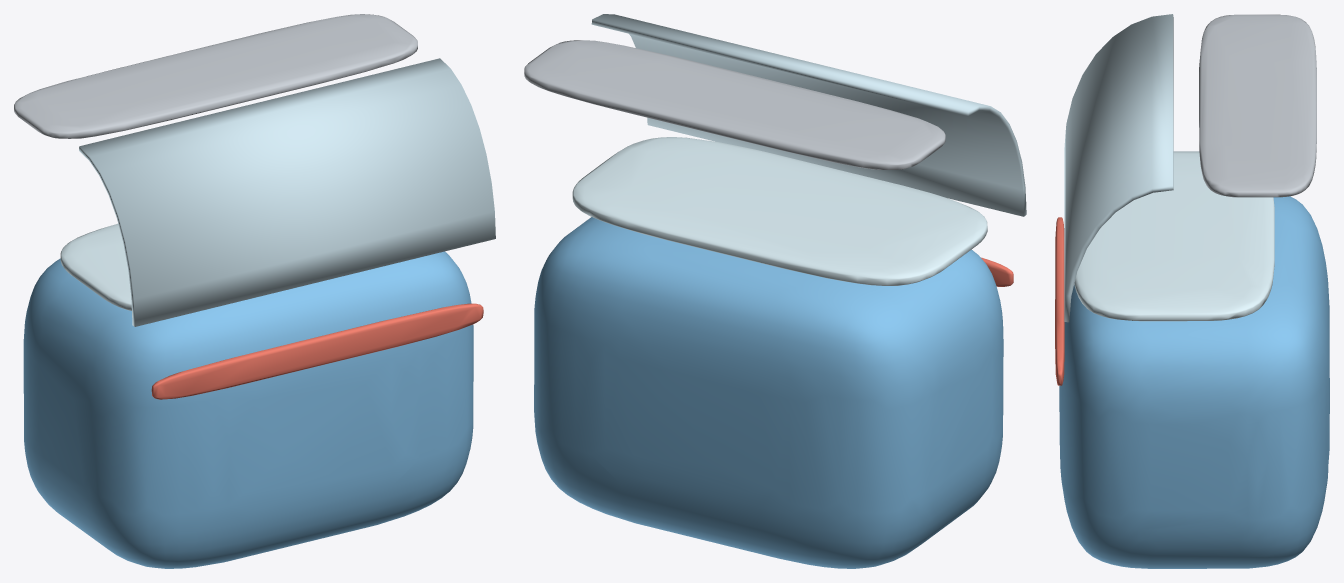
File: vitrina_vitrina_1.glb
3 views of the same model, side by side, from view 1: azimuth 30°, elevation 25°; view 2: azimuth 150°, elevation 25°; view 3: azimuth 270°, elevation 25° (orthographic). The views are drawn at different scales.
Visible parts, largest first — view 1: base.004, vidrio curvo, techo.002, franja.002, bandeja.002; view 2: base.004, bandeja.002, techo.002, vidrio curvo; view 3: base.004, bandeja.002, techo.002, vidrio curvo, franja.002.
Part boxes in pixels (bbox=[...]): base.004: bbox=[23, 251, 473, 568]; vidrio curvo: bbox=[79, 58, 495, 326]; techo.002: bbox=[14, 14, 417, 138]; franja.002: bbox=[151, 303, 483, 399]; bandeja.002: bbox=[60, 223, 131, 310]; base.004: bbox=[534, 217, 1003, 568]; bandeja.002: bbox=[572, 137, 987, 285]; techo.002: bbox=[524, 40, 945, 169]; vidrio curvo: bbox=[591, 14, 1026, 216]; base.004: bbox=[1059, 196, 1329, 568]; bandeja.002: bbox=[1074, 151, 1274, 321]; techo.002: bbox=[1199, 14, 1316, 197]; vidrio curvo: bbox=[1064, 14, 1173, 322]; franja.002: bbox=[1055, 217, 1064, 385].
Bounding box in the file's own units: 0.9992 × 1.08 × 0.6494.
